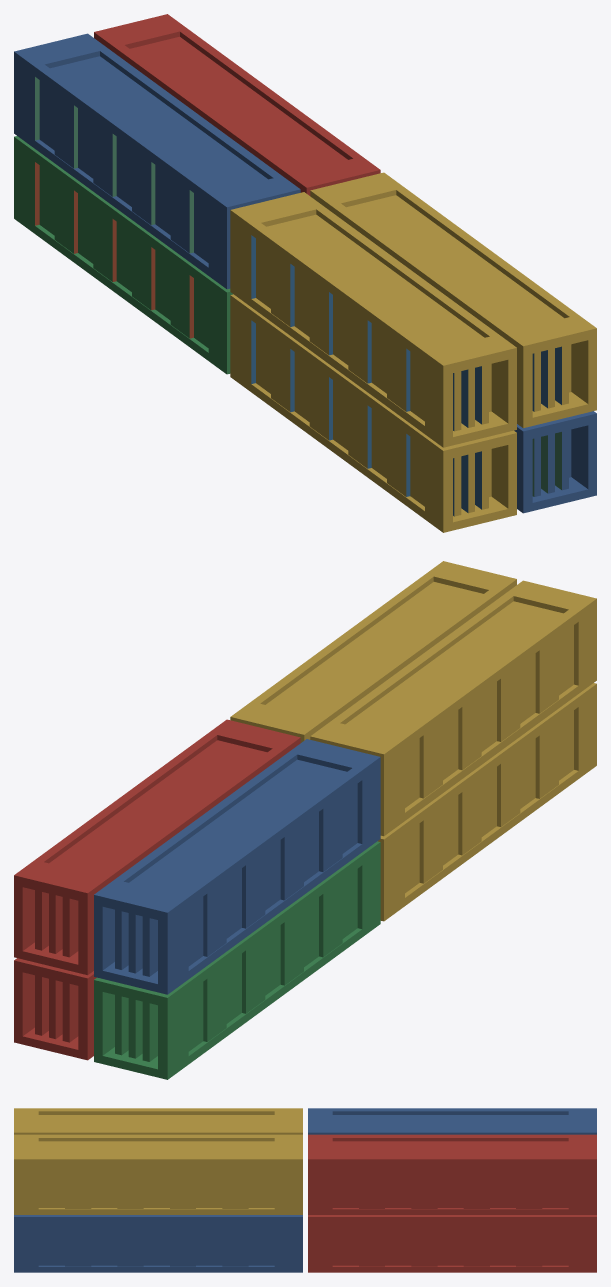
The model's file is harbor-cargo-stack.glb.
The picture shows the model from 3 angles, top to bottom: view 1: azimuth 30°, elevation 25°; view 2: azimuth 150°, elevation 25°; view 3: azimuth 270°, elevation 25°; orthographic projection. The views are drawn at different scales.
Parts seen in each view (by area): view 1: CargoStackMesh; view 2: CargoStackMesh; view 3: CargoStackMesh.
Boxes of the visible parts, left/top/right/bottom form: CargoStackMesh: left=14, top=14, right=596, bottom=532; CargoStackMesh: left=14, top=561, right=596, bottom=1079; CargoStackMesh: left=14, top=1108, right=596, bottom=1272.
Size of the model in its own units: 5.08 by 5.28 by 24.58.
